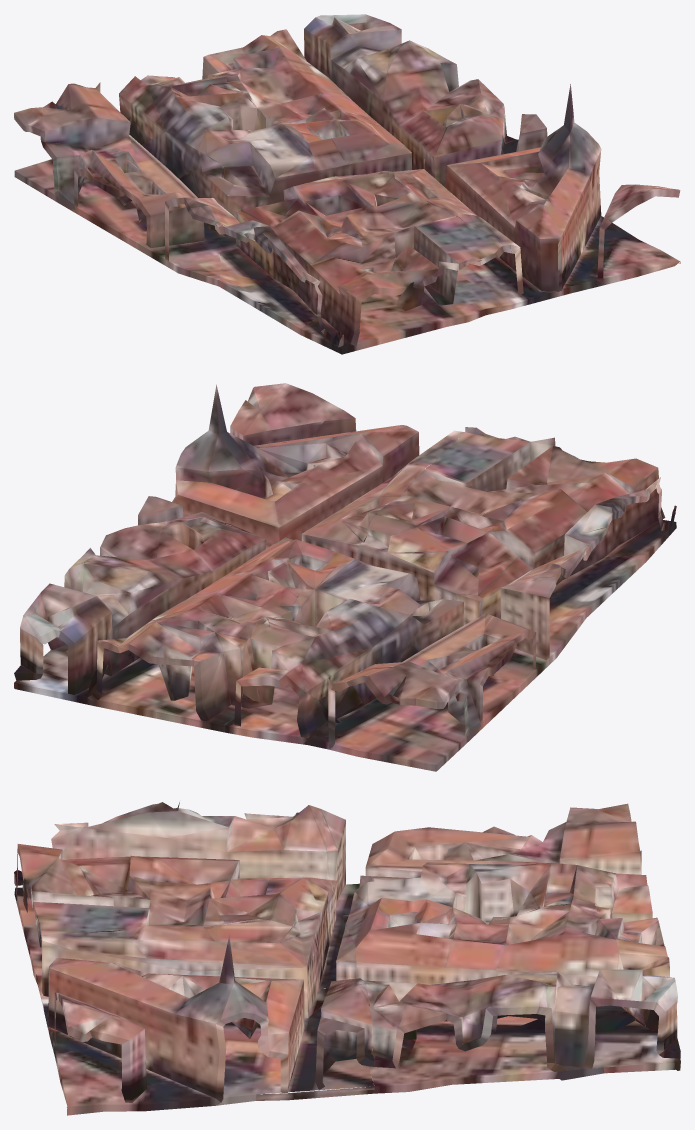
3 views of the same model, one above another, from view 1: azimuth 30°, elevation 25°; view 2: azimuth 150°, elevation 25°; view 3: azimuth 270°, elevation 25° (orthographic). The views are drawn at different scales.
Visible parts, largest first — view 1: Mesh_0; view 2: Mesh_0; view 3: Mesh_0.
Part boxes in pixels (<box>): Mesh_0: <box>14,14,680,354</box>; Mesh_0: <box>14,383,676,771</box>; Mesh_0: <box>14,802,680,1115</box>.
Bounding box in the file's own units: 133 × 43.85 × 165.
Materials: 1 (1 with a texture image).
